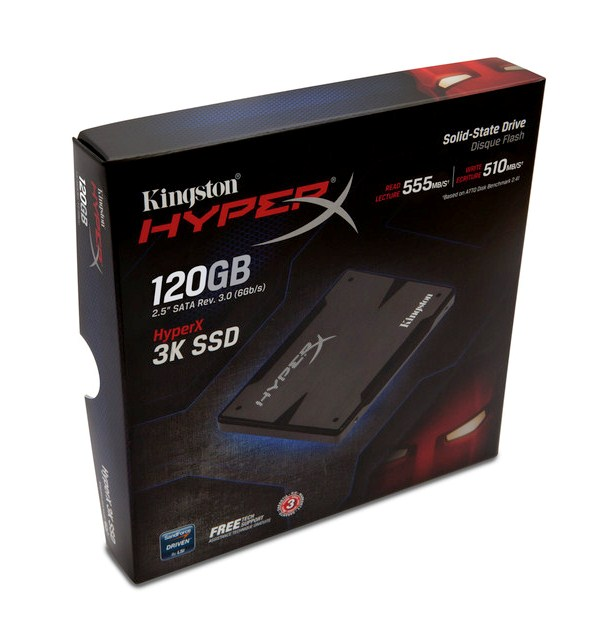Kingston: (137, 166, 248, 218)
